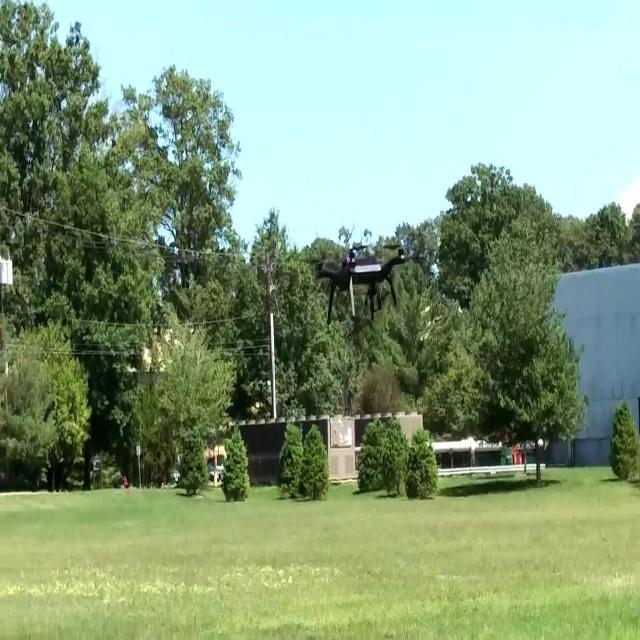UAV: (318, 245, 406, 323)
